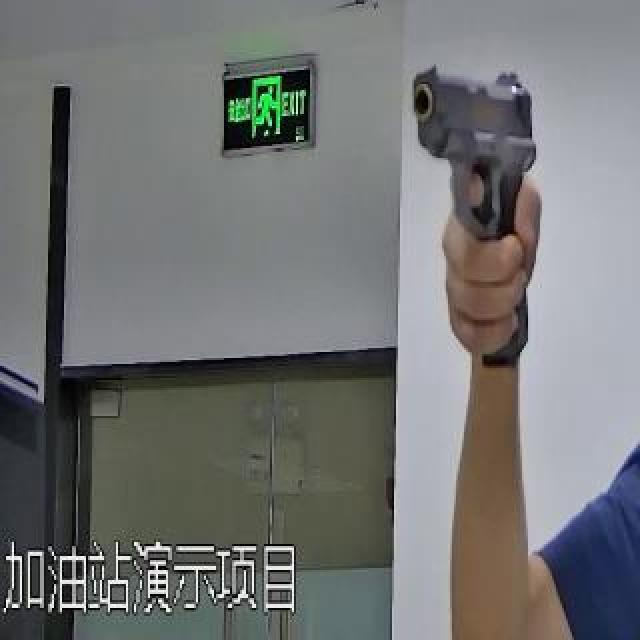Guns: (390, 30, 556, 402)
